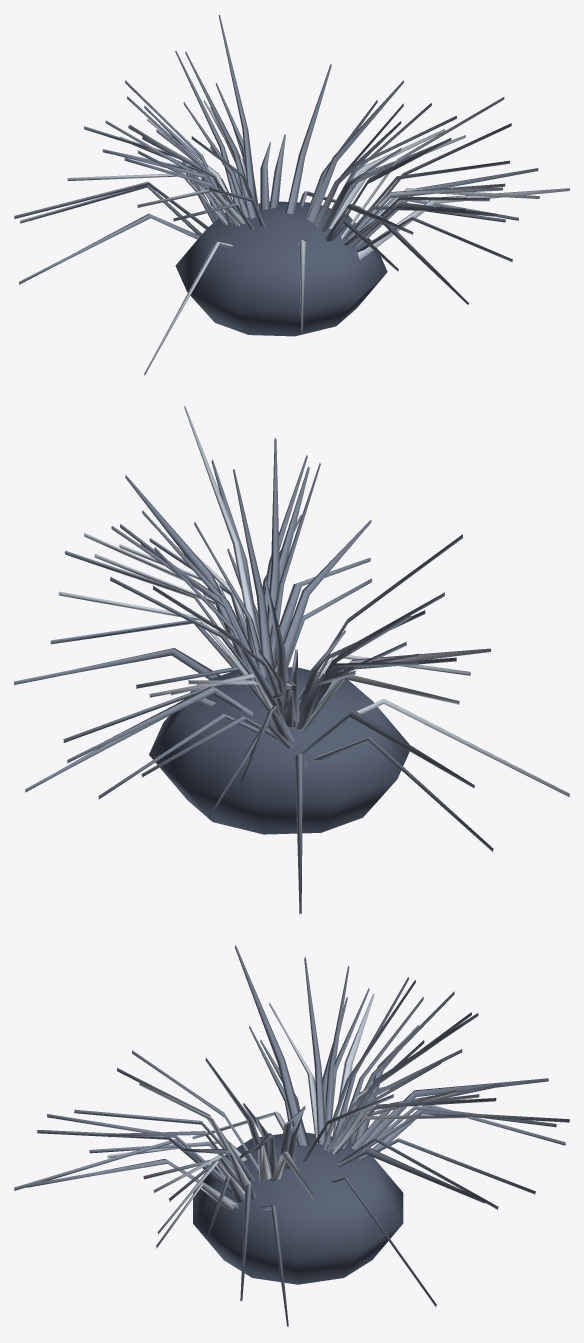
Rendered from 低矮草-lite.glb.
The picture shows the model from 3 angles, top to bottom: view 1: azimuth 30°, elevation 25°; view 2: azimuth 150°, elevation 25°; view 3: azimuth 270°, elevation 25°; orthographic projection. The views are drawn at different scales.
Visible parts, largest first — view 1: garden-grass-low-leaf, garden-grass-low-soil, garden-grass-low-light; view 2: garden-grass-low-leaf, garden-grass-low-soil, garden-grass-low-light; view 3: garden-grass-low-leaf, garden-grass-low-soil, garden-grass-low-light.
Part boxes in pixels (x1,y1,x2,y2): garden-grass-low-leaf: [14, 14, 538, 305]; garden-grass-low-soil: [175, 201, 387, 336]; garden-grass-low-light: [67, 97, 569, 375]; garden-grass-low-leaf: [14, 438, 493, 914]; garden-grass-low-soil: [149, 667, 409, 834]; garden-grass-low-light: [58, 405, 569, 796]; garden-grass-low-leaf: [14, 945, 569, 1327]; garden-grass-low-soil: [193, 1132, 403, 1284]; garden-grass-low-light: [107, 993, 479, 1248].
Size of the model in its own units: 0.8 by 0.42 by 0.8.
